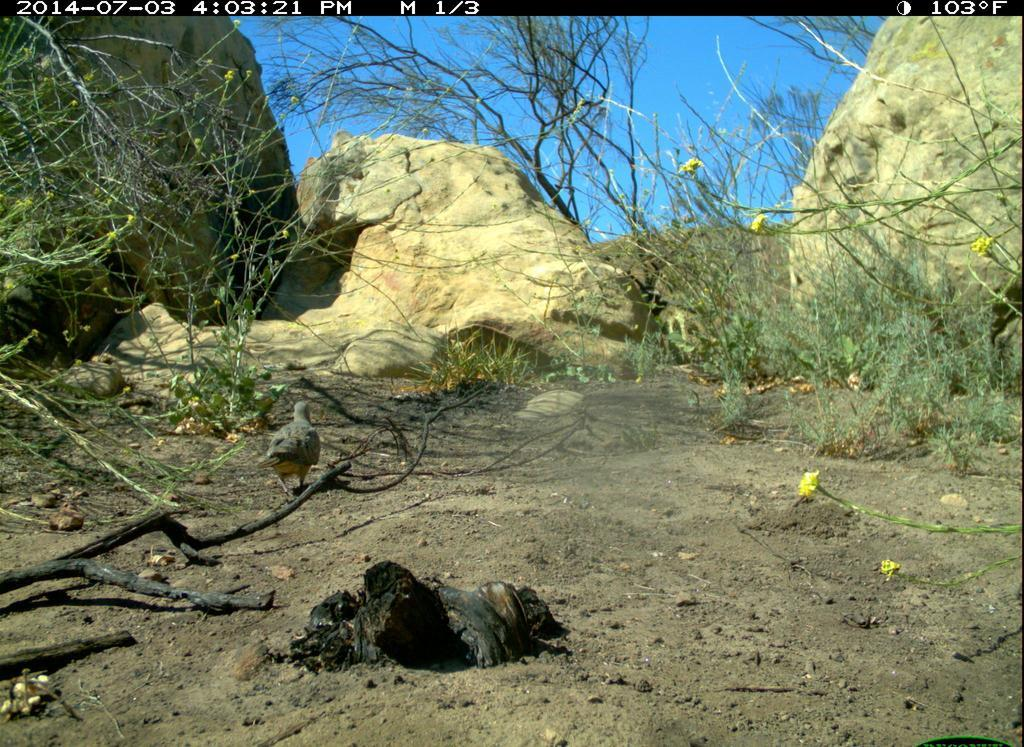bird: (251, 395, 327, 499)
